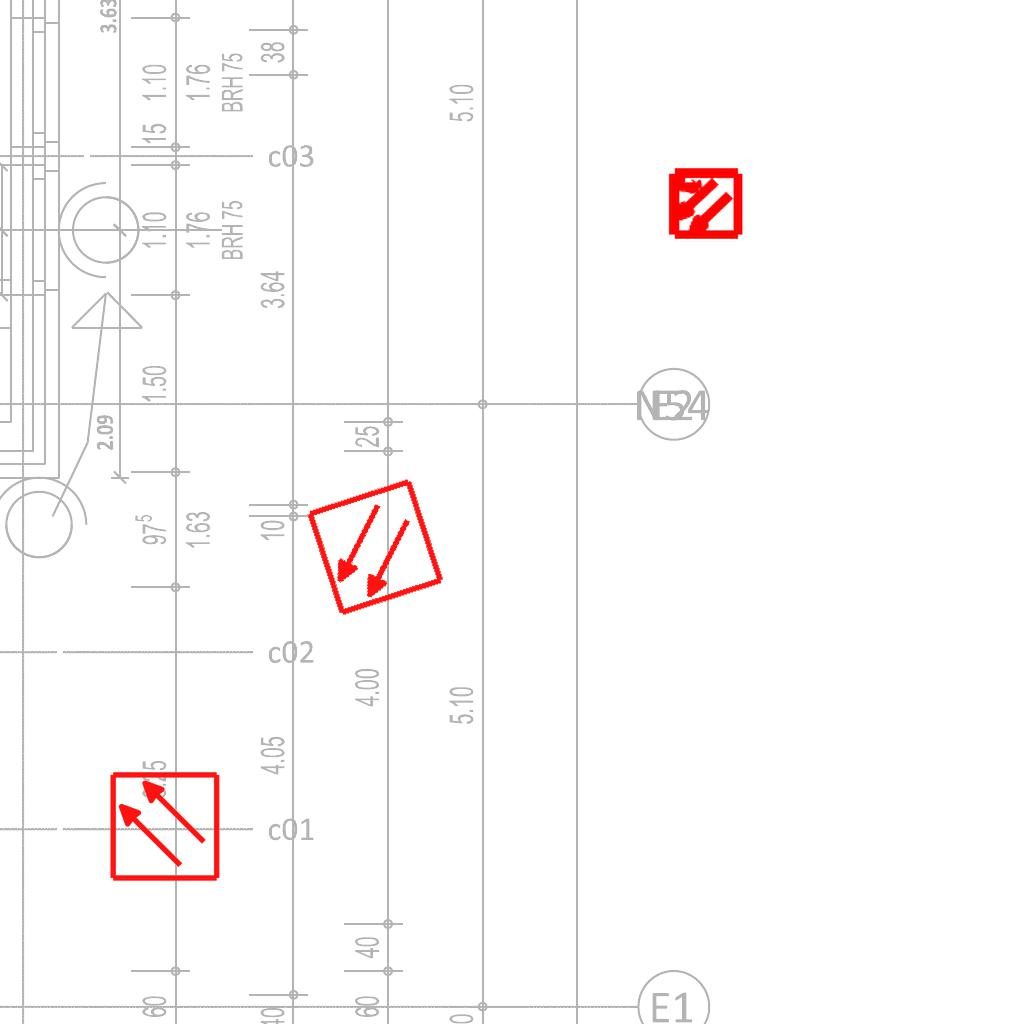OT_Multisensormelder_(Kombination_RMO_WMD): (647, 147, 760, 260)
RMO_Rauchmelder_optischer: (304, 476, 447, 619), (108, 770, 221, 883)
